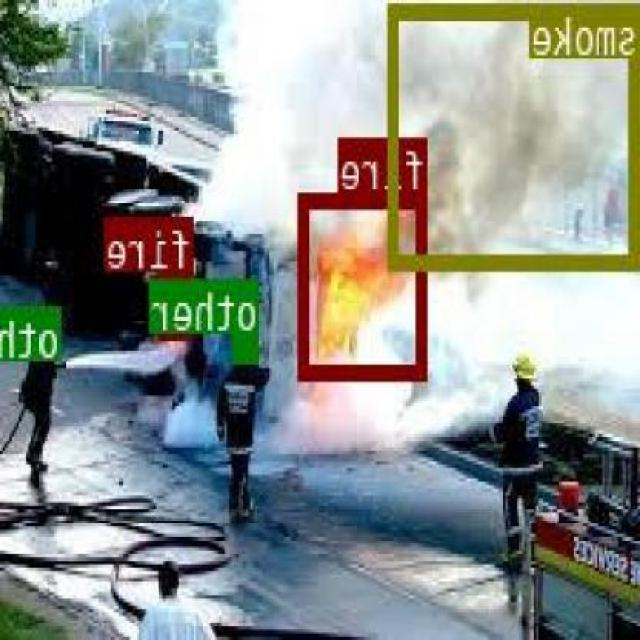Fire: (302, 192, 429, 376), (161, 268, 194, 336)
Smoke: (392, 0, 640, 268)
